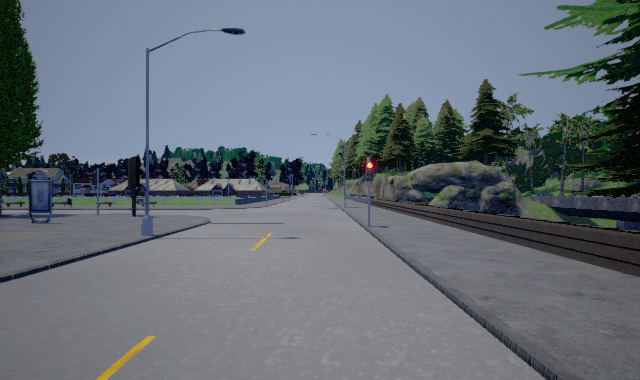traffic_light: (366, 159, 373, 185)
